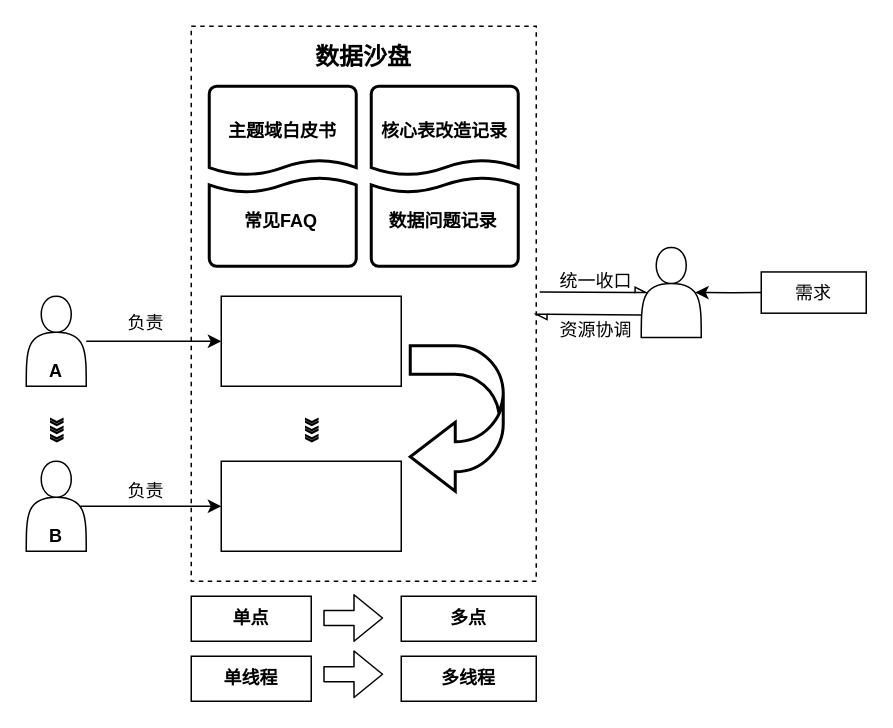
Some shapes in this 893 by 728 pixel diagram are drawn without their labels. The shapes that lost their labels are listed below. From the top down, each one's box as (x1, y1, x2, y2) in pixels, then its label:
(220, 295, 401, 386): 主题域A
(408, 344, 504, 492): backup
(220, 460, 401, 551): 主题域B
